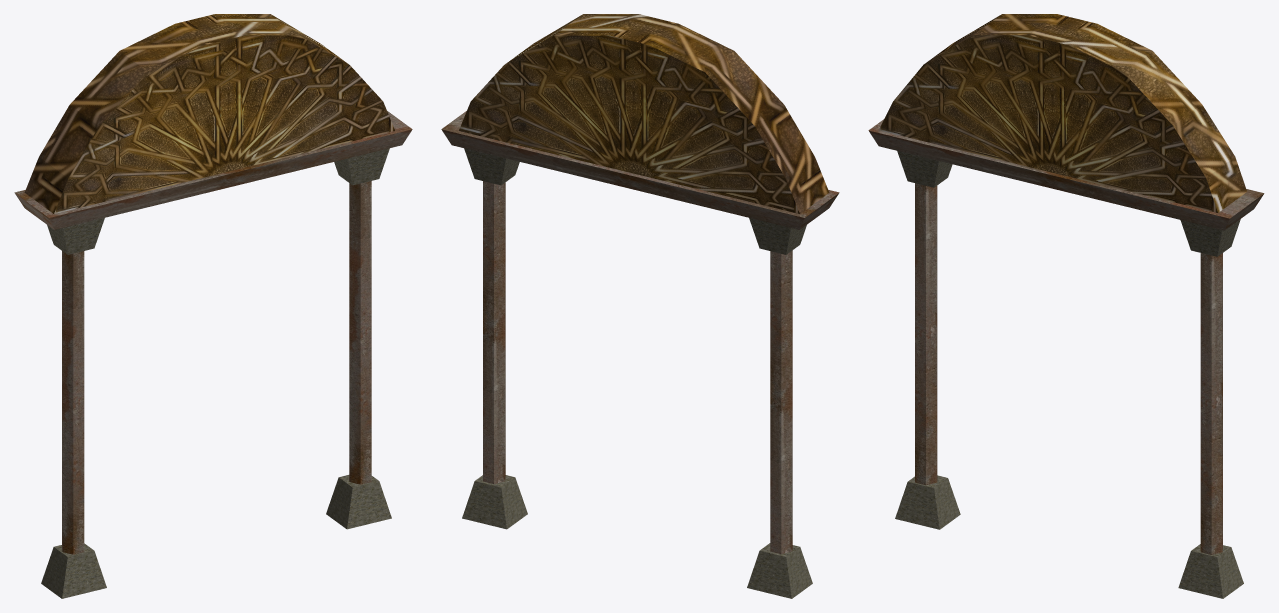
The model's file is ARCH.fbx.
3 views of the same model, side by side, from view 1: azimuth 30°, elevation 25°; view 2: azimuth 150°, elevation 25°; view 3: azimuth 330°, elevation 25° (orthographic).
Visible parts, largest first — view 1: Mesh1; view 2: Mesh1; view 3: Mesh1.
Part boxes in pixels (x1=…): Mesh1: x1=14, y1=14, x2=412, y2=598; Mesh1: x1=441, y1=14, x2=839, y2=598; Mesh1: x1=868, y1=14, x2=1264, y2=598.
Bounding box in the file's own units: 20.41 × 28.07 × 3.39.
